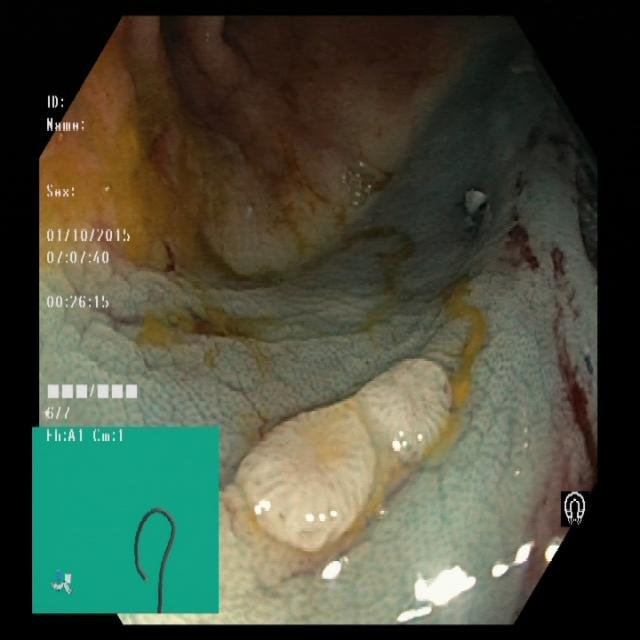dyed-lifted-polyps: (207, 347, 459, 585), (513, 336, 604, 596), (498, 200, 549, 279)
